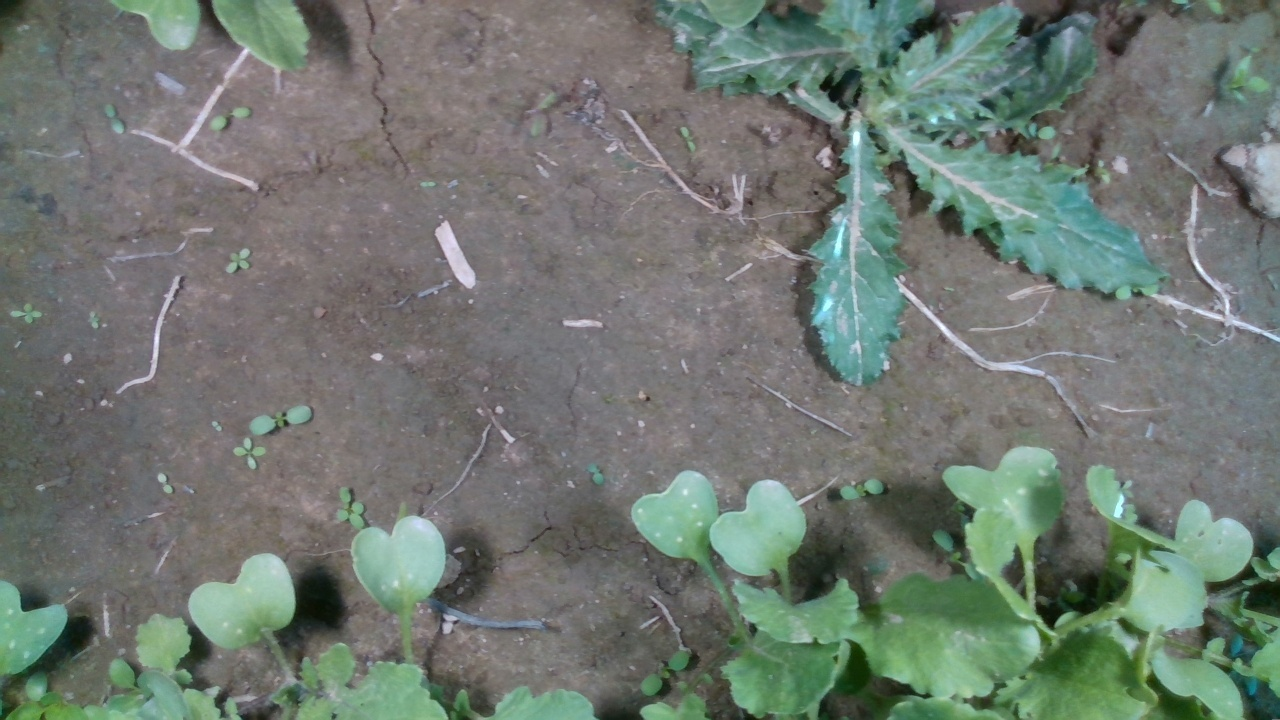weed: (248, 403, 314, 435), (334, 484, 365, 530), (206, 104, 251, 132), (231, 436, 267, 470), (839, 476, 885, 501), (224, 245, 252, 274), (103, 102, 126, 136), (9, 303, 44, 323), (677, 125, 697, 154), (156, 471, 174, 495), (586, 462, 604, 486), (86, 310, 103, 331), (210, 420, 223, 434)
